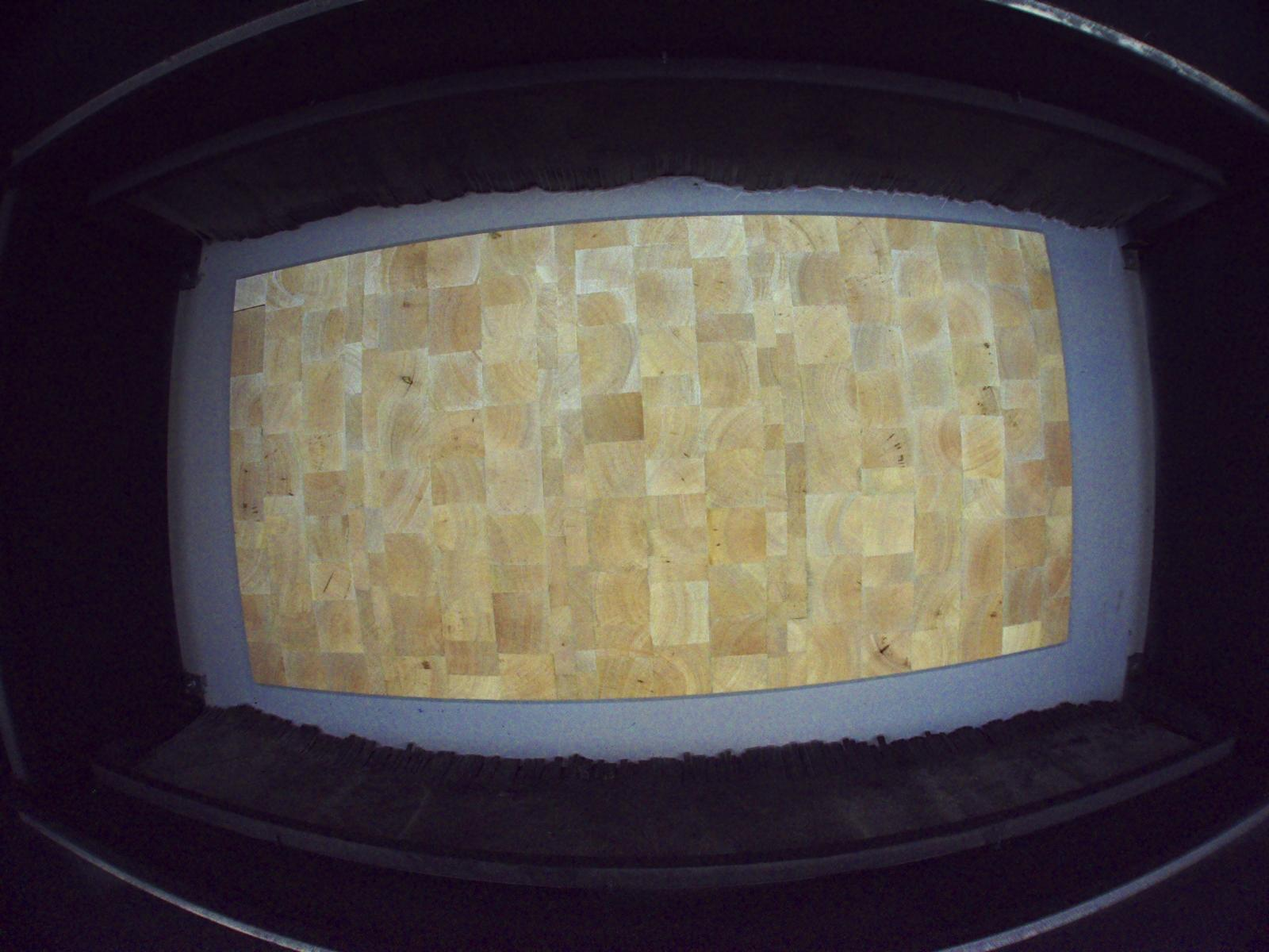sheck_ecuatoriano: (400, 349, 420, 398), (870, 633, 893, 663)
